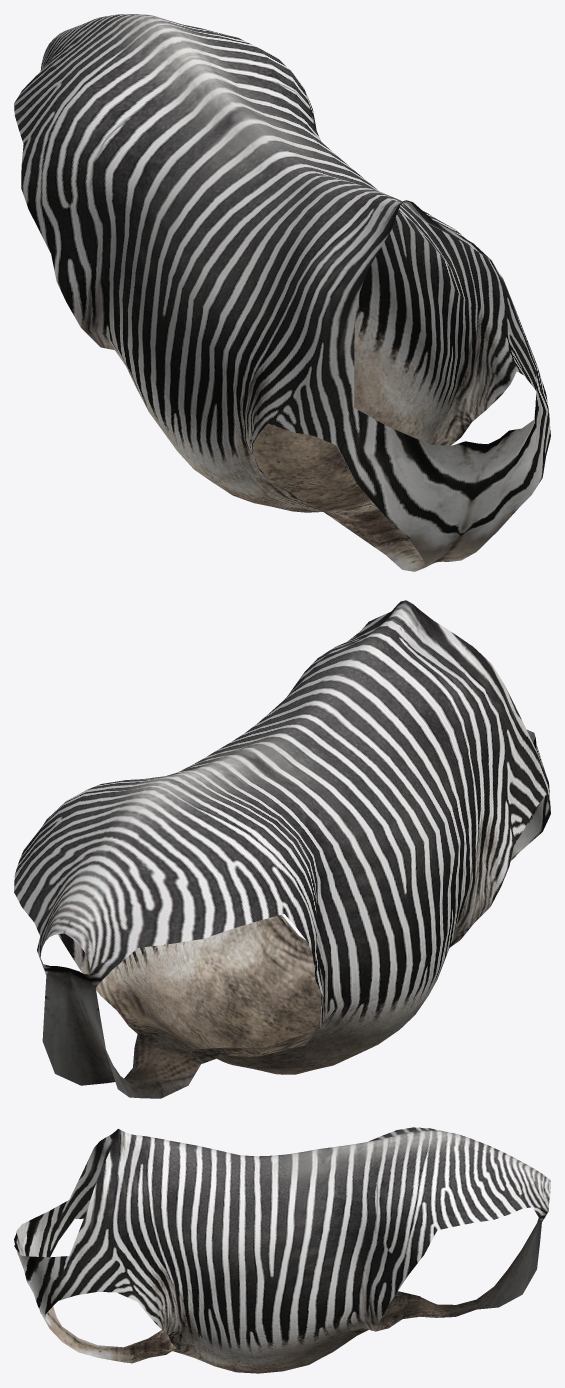
The model's file is z_body.obj.
3 views of the same model, one above another, from view 1: azimuth 30°, elevation 25°; view 2: azimuth 150°, elevation 25°; view 3: azimuth 270°, elevation 25° (orthographic). The views are drawn at different scales.
Visible parts, largest first — view 1: Object_50; view 2: Object_50; view 3: Object_50.
Part boxes in pixels (box(x1,y1,x2,y2)): Object_50: box(14, 14, 550, 571); Object_50: box(14, 600, 550, 1098); Object_50: box(14, 1127, 550, 1373).
Size of the model in its own units: 15.25 by 18.84 by 39.22.
1 material, 1 textured.
